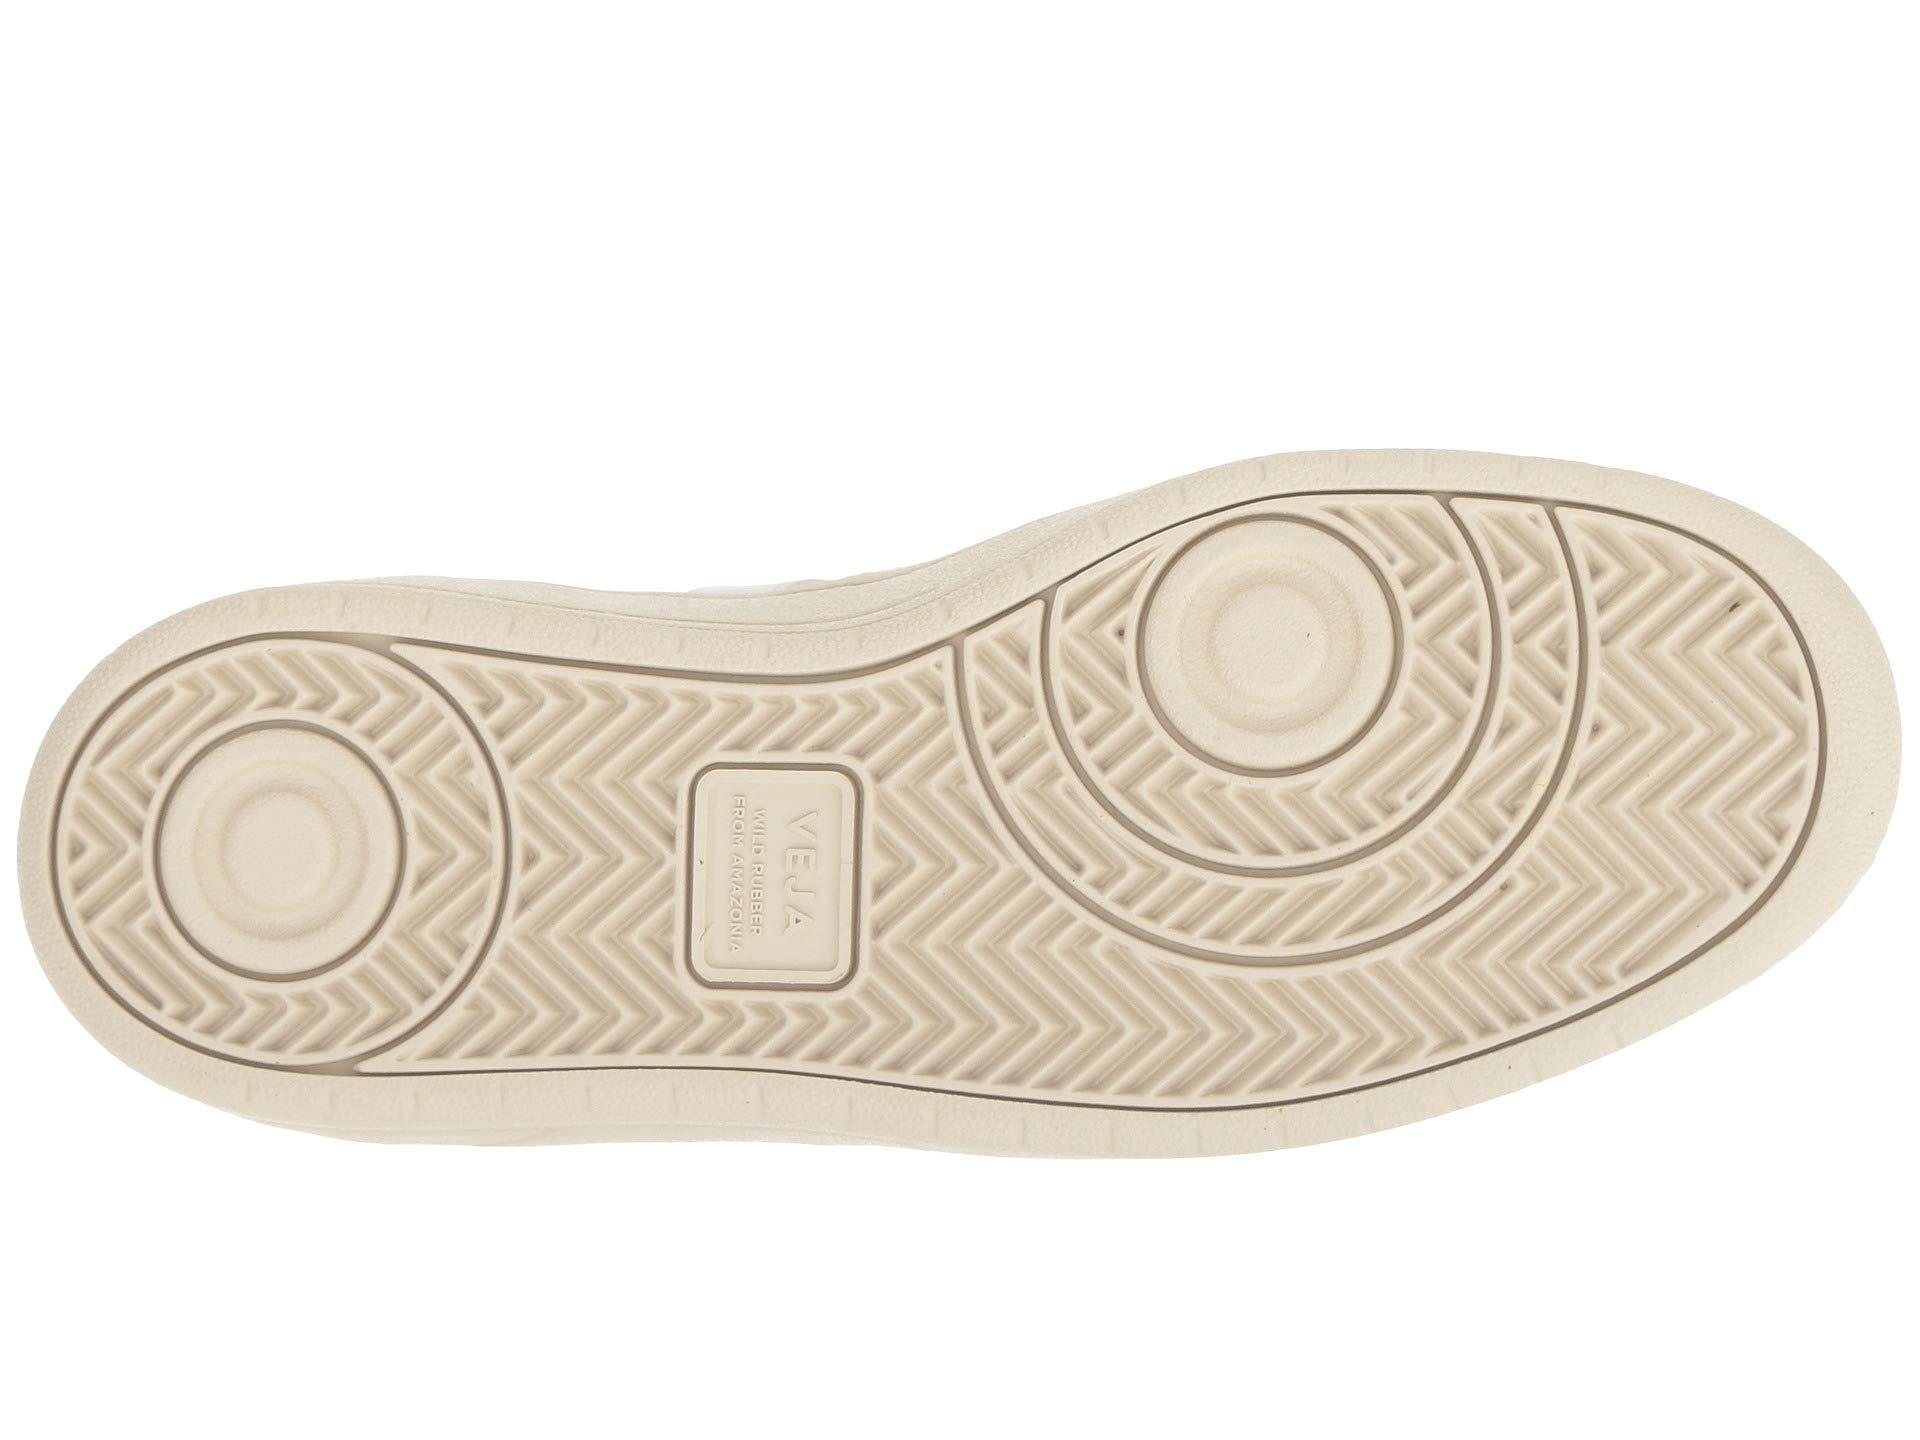chevron: (57, 626, 509, 1071)
circle: (57, 626, 509, 1071)
quad: (694, 761, 854, 983)
text: (694, 761, 854, 983)
